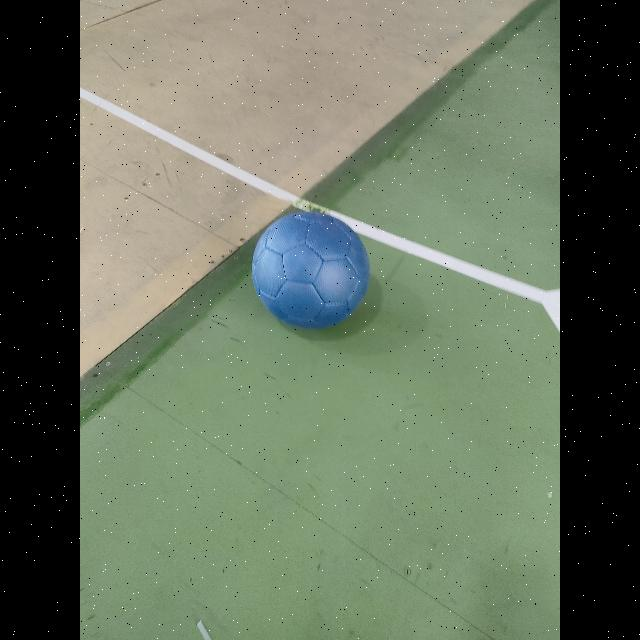B: (252, 212, 370, 328)
